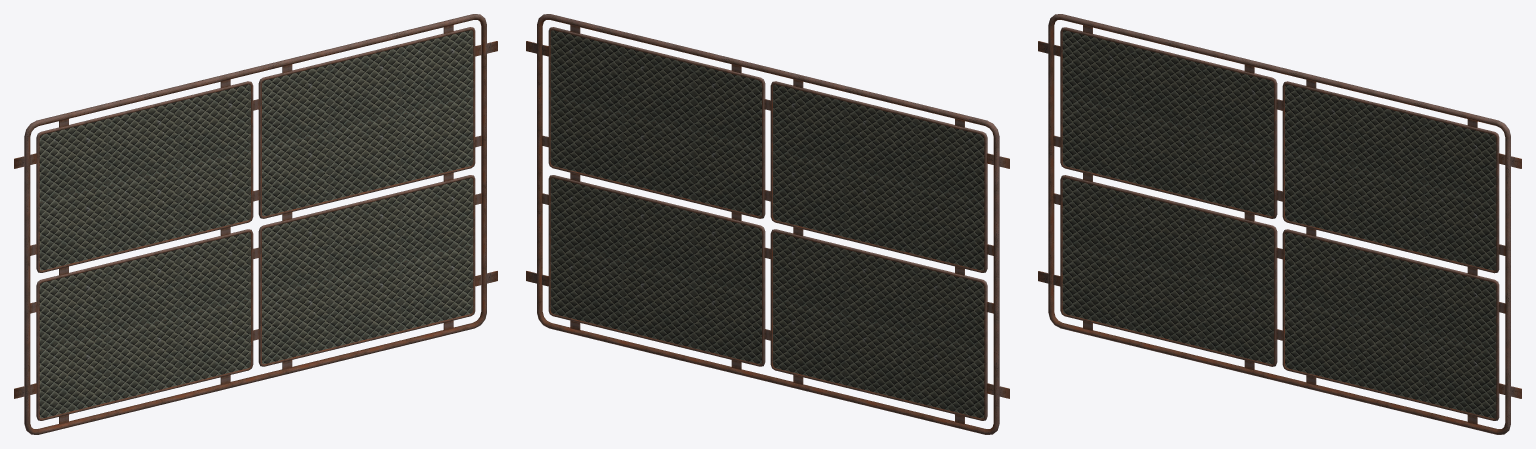
File: WiredFencePanel.FBX
The picture shows the model from 3 angles, left to right: view 1: azimuth 30°, elevation 25°; view 2: azimuth 150°, elevation 25°; view 3: azimuth 330°, elevation 25°; orthographic projection.
Parts seen in each view (by area): view 1: WiredFencePanel; view 2: WiredFencePanel; view 3: WiredFencePanel.
Boxes of the visible parts, bbox=[...] form: WiredFencePanel: bbox=[14, 14, 497, 434]; WiredFencePanel: bbox=[526, 14, 1009, 434]; WiredFencePanel: bbox=[1038, 14, 1521, 434].
Size of the model in its own units: 42.33 by 26.29 by 0.45.
